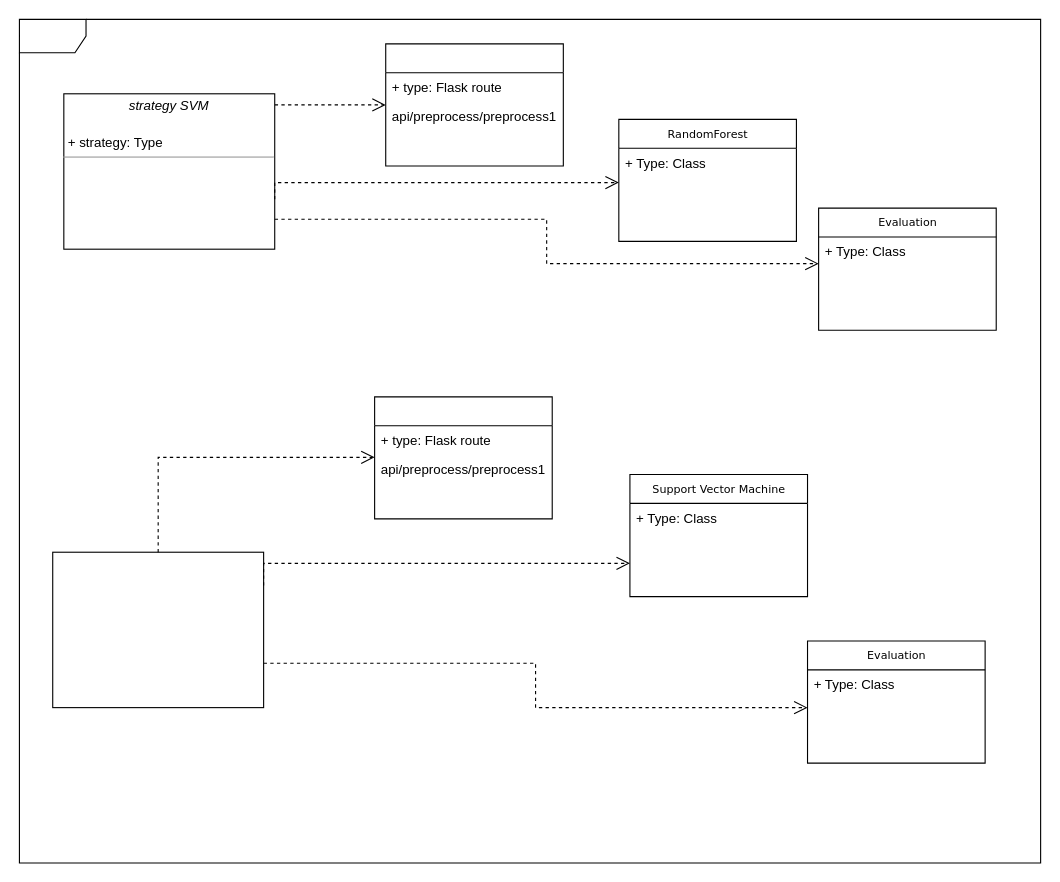
The diagram is 1060 pixels wide and 882 high, and some of its shapes have lost their labels. The shapes that lost their labels are listed below. From the top down, each one's box as (x1, y1, x2, y2) in pixels, then its label:
(385, 43, 563, 166): LASSO Prepossess
(374, 396, 552, 519): Regression Prepossess
(52, 551, 264, 708): Support Vector Machine + strategy: Type endpoint api/stragtegy/svm
